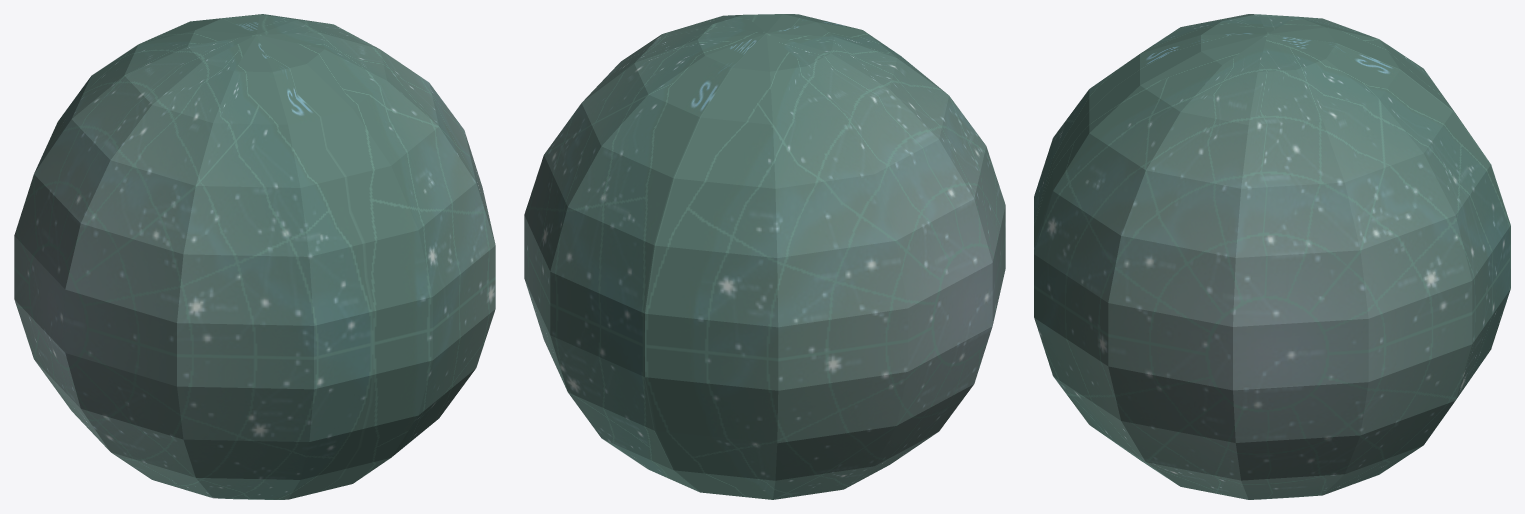
File: map_sphere.fbx
3 renders of one model, left to right at view 1: azimuth 30°, elevation 25°; view 2: azimuth 150°, elevation 25°; view 3: azimuth 270°, elevation 25°, orthographic.
Visible parts, largest first — view 1: Plane; view 2: Plane; view 3: Plane.
Part boxes in pixels (<box>): Plane: <box>14,14,495,499</box>; Plane: <box>524,14,1005,499</box>; Plane: <box>1034,14,1510,499</box>.
Size of the model in its own units: 125 by 127 by 123.
